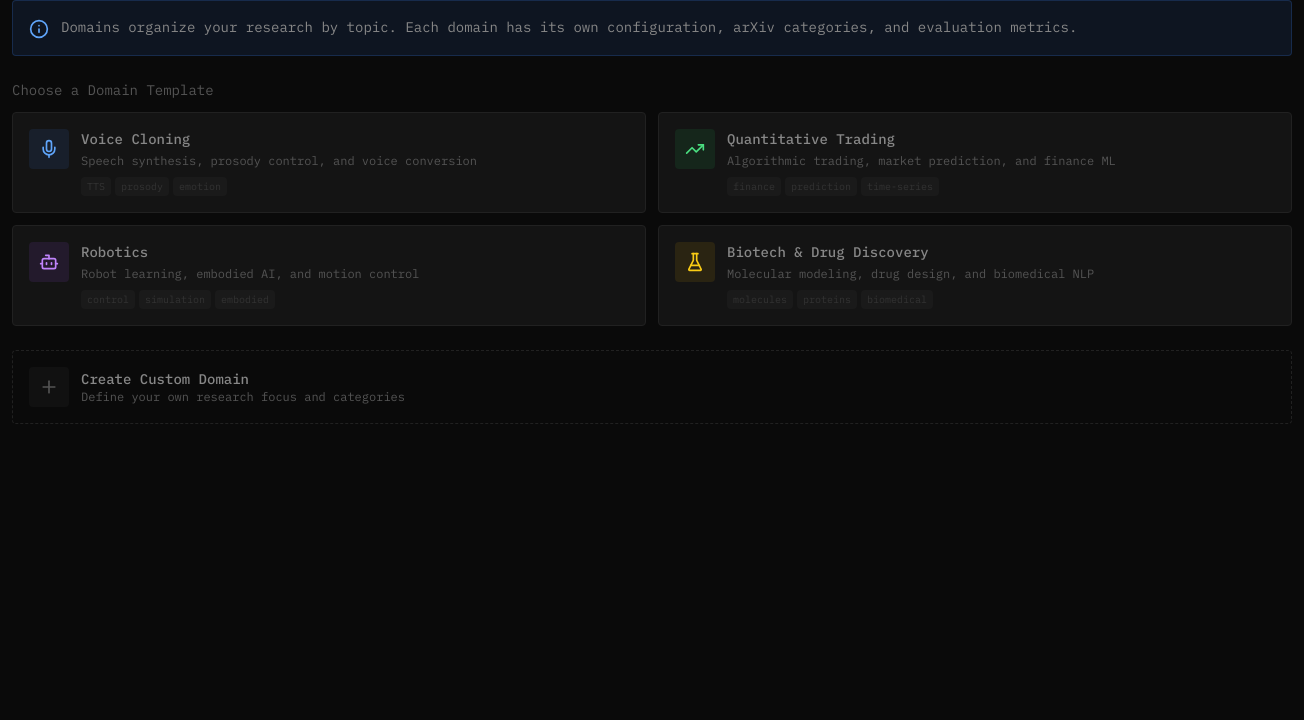
WizardStepDomain › custom domain form › shows custom form when Create Custom Domain is clicked
Click the button "Create Custom Domain" at {"x": 49, "y": 387}, box x1=12 y1=350 x2=1292 y2=424
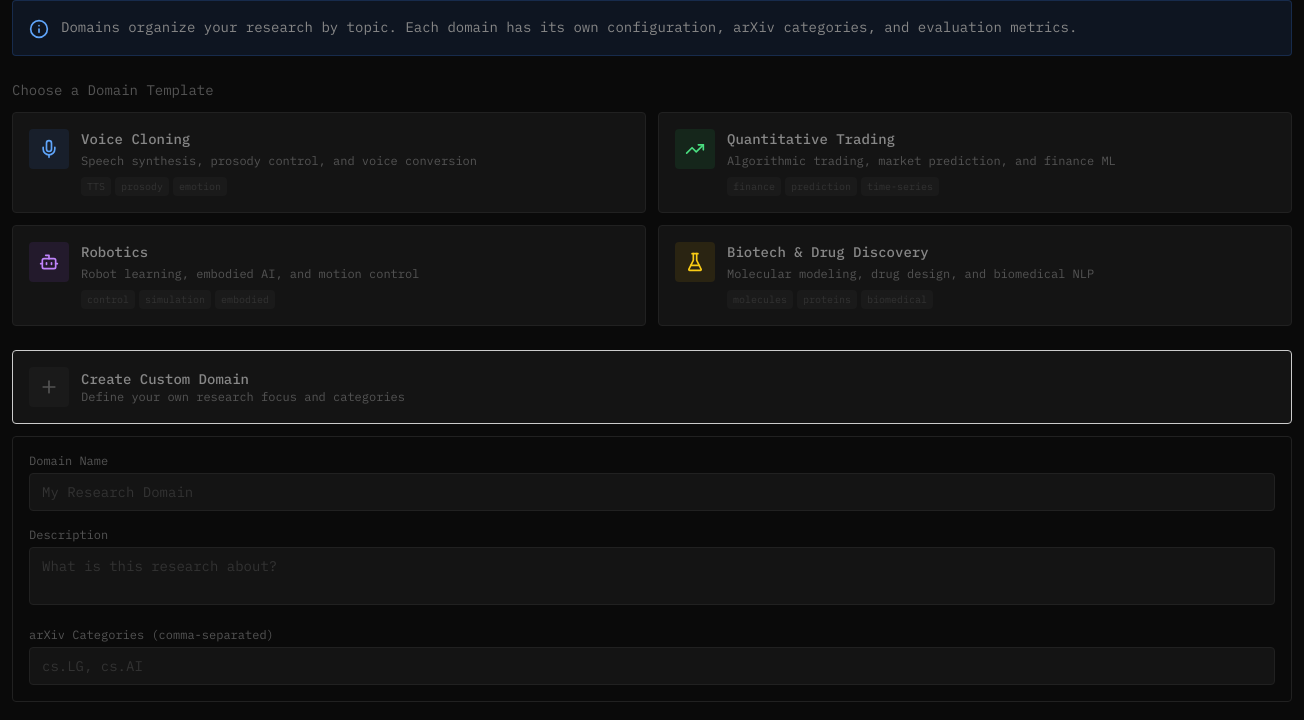
Result: the field with placeholder "My Research Domain" is shown at x1=29 y1=473 x2=1275 y2=511
